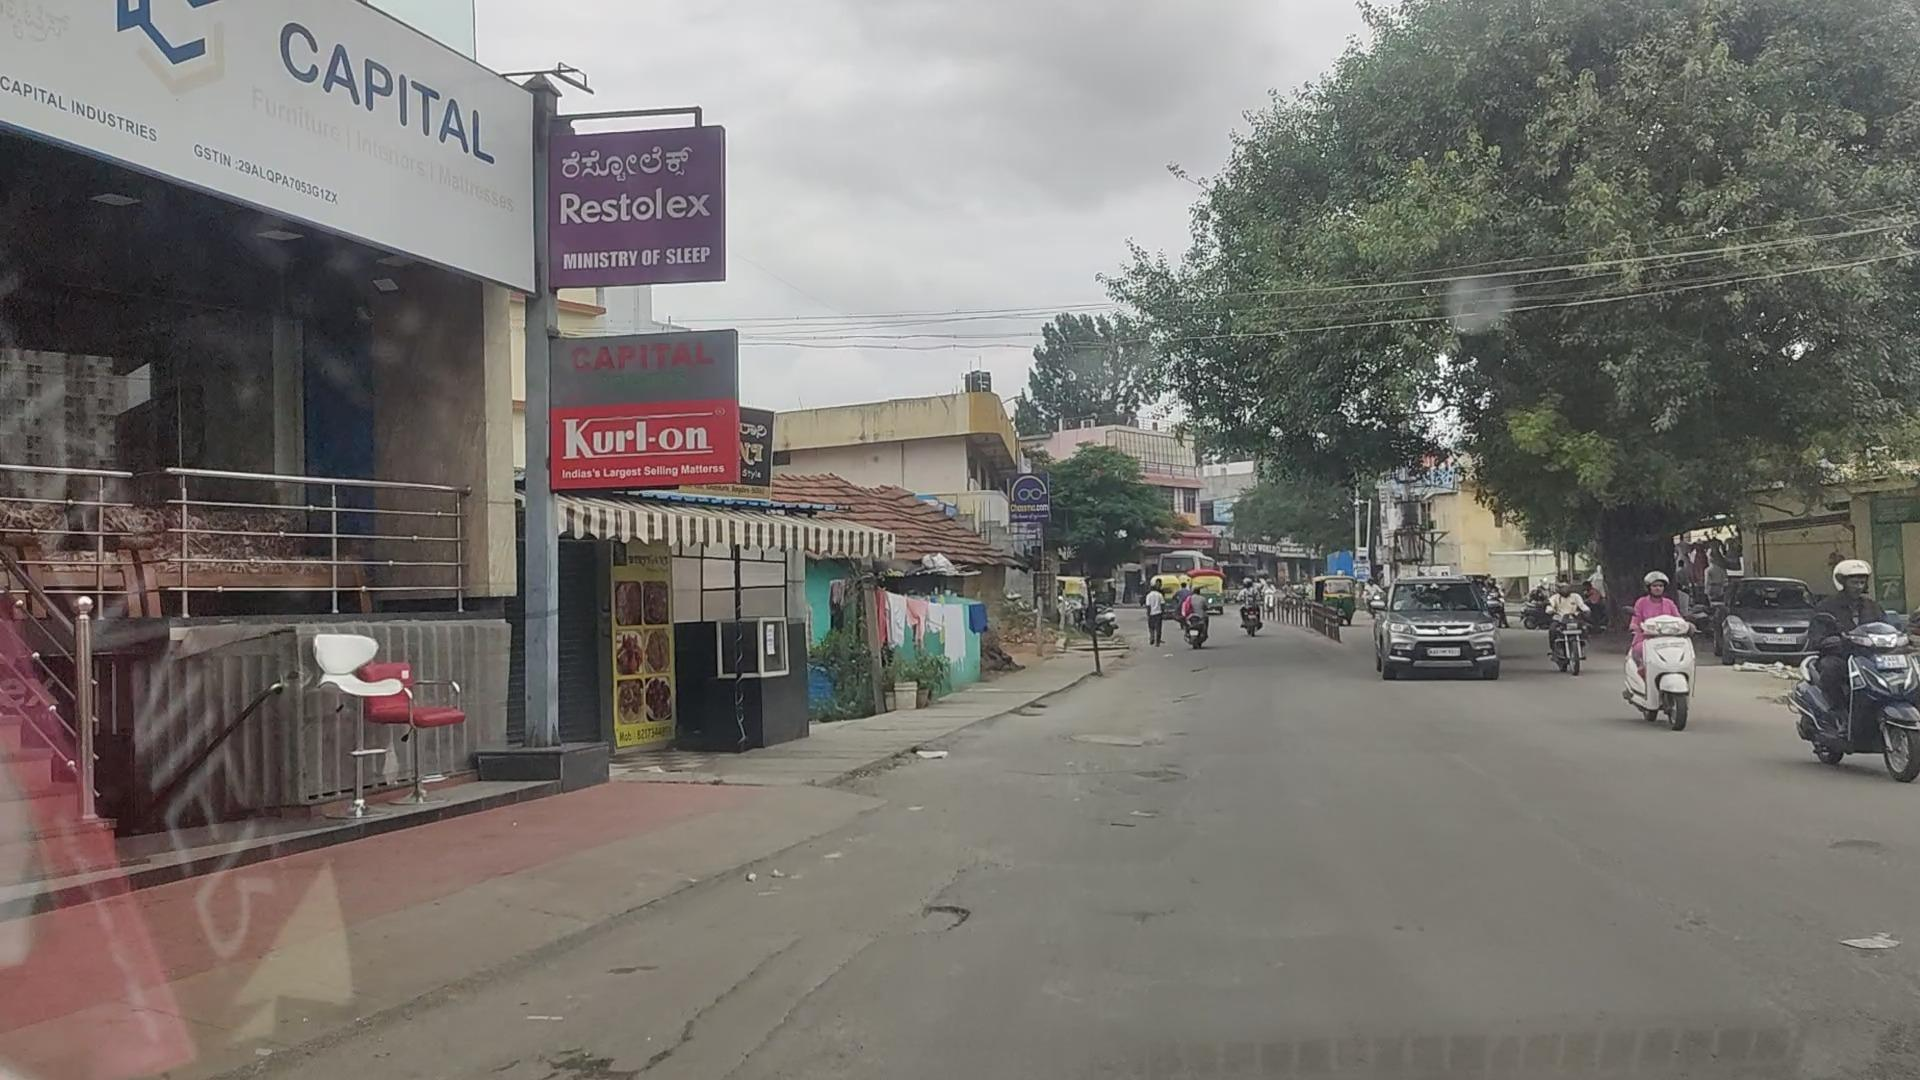RoadDamages: (735, 951, 889, 1080), (1102, 764, 1188, 843), (1058, 720, 1184, 758), (910, 877, 990, 934)
